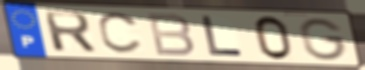0: (253, 15, 295, 61)
B: (144, 12, 197, 58)
C: (95, 12, 144, 56)
G: (297, 17, 349, 62)
L: (200, 15, 247, 59)
R: (41, 10, 99, 54)
